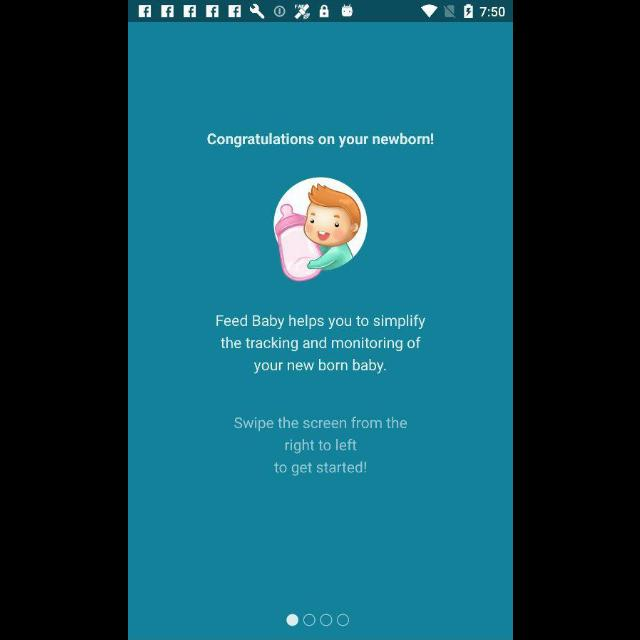image: (272, 177, 368, 281)
pageindicator: (285, 613, 349, 627)
text: (215, 314, 425, 374), (233, 416, 407, 476), (206, 132, 434, 150)
uppertaskbar: (128, 1, 512, 23)
